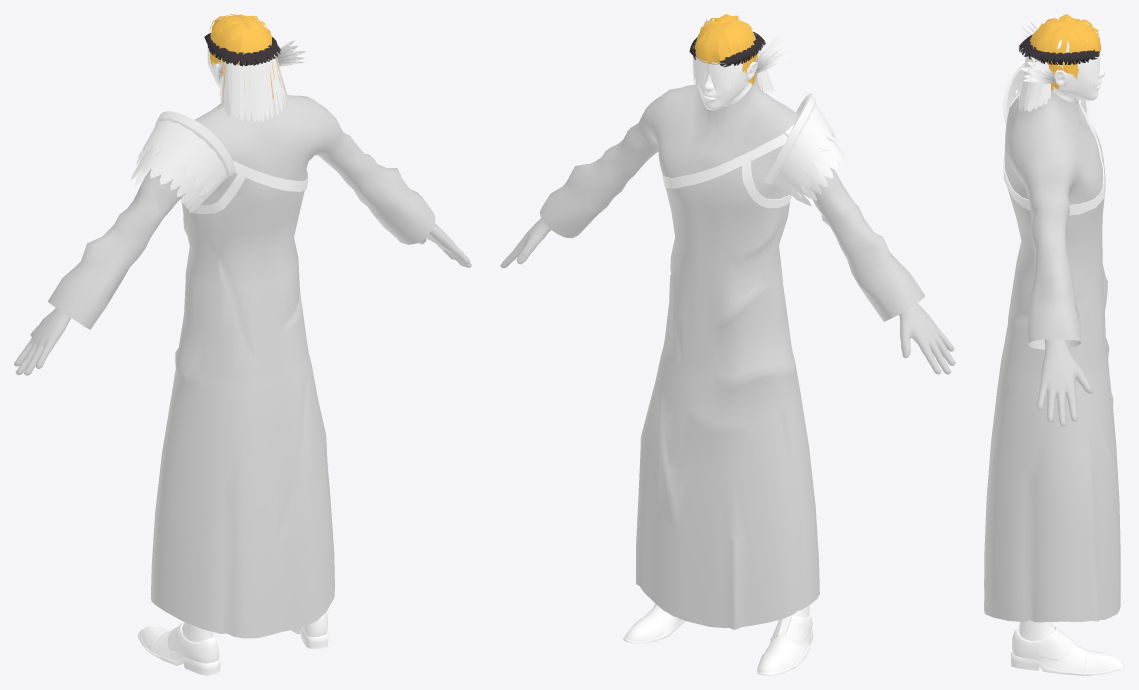
Rendered from Vicar Mixamo.glb.
3 views of the same model, side by side, from view 1: azimuth 30°, elevation 25°; view 2: azimuth 150°, elevation 25°; view 3: azimuth 270°, elevation 25° (orthographic).
Visible parts, largest first — view 1: Body; view 2: Body; view 3: Body.
Part boxes in pixels (x1,y1,x2,y2): Body: (14, 14, 471, 675); Body: (500, 14, 955, 675); Body: (984, 14, 1124, 675).
Bounding box in the file's own units: 1.45 × 1.91 × 0.3955.
Materials: 8 (4 with a texture image).
